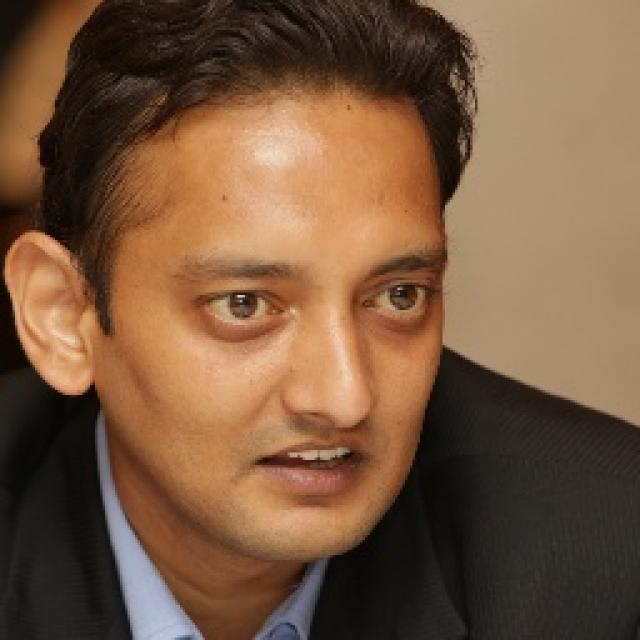earlobe: (3, 232, 96, 398)
